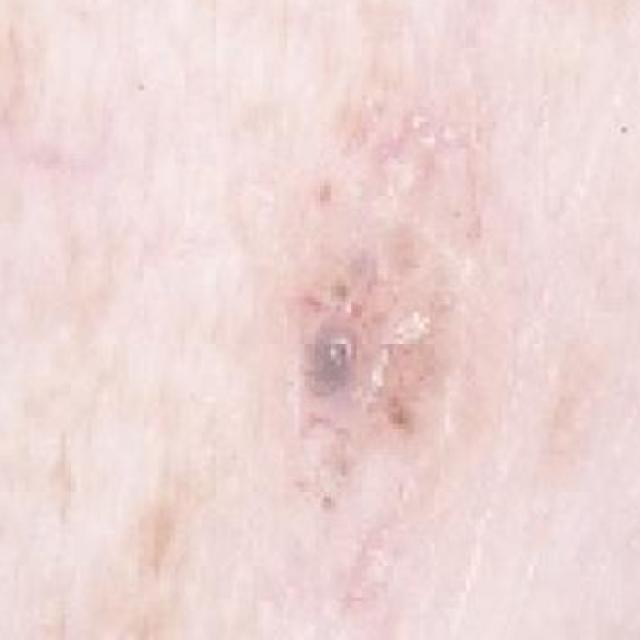BCC: (47, 18, 618, 640)
